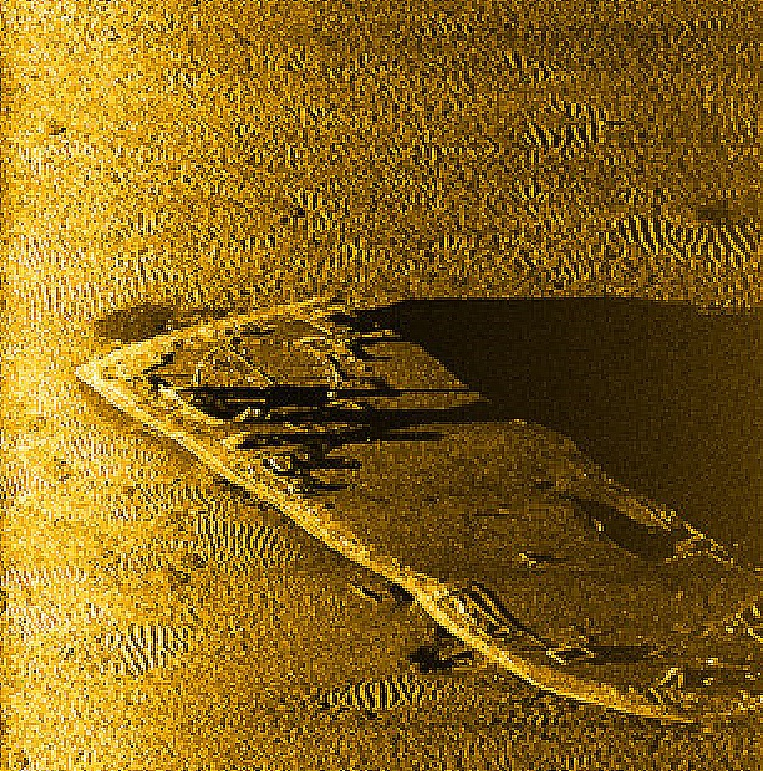ship: (73, 293, 763, 730)
